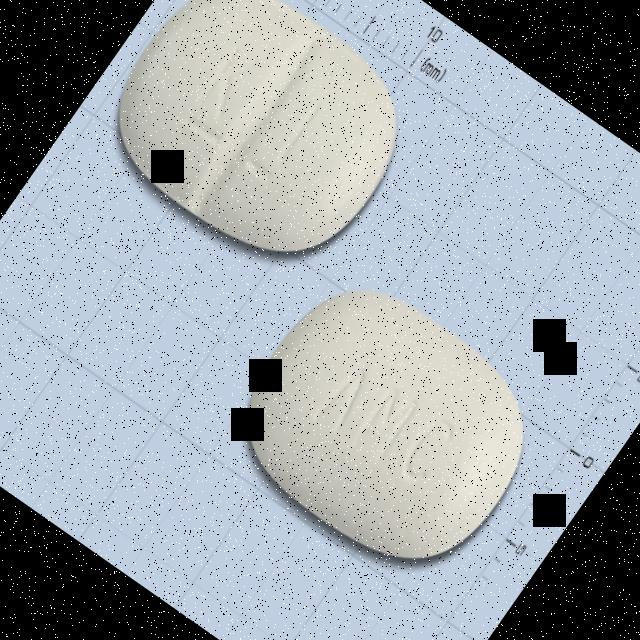Amocla Duo500mg: (208, 256, 562, 598), (79, 0, 438, 297)
